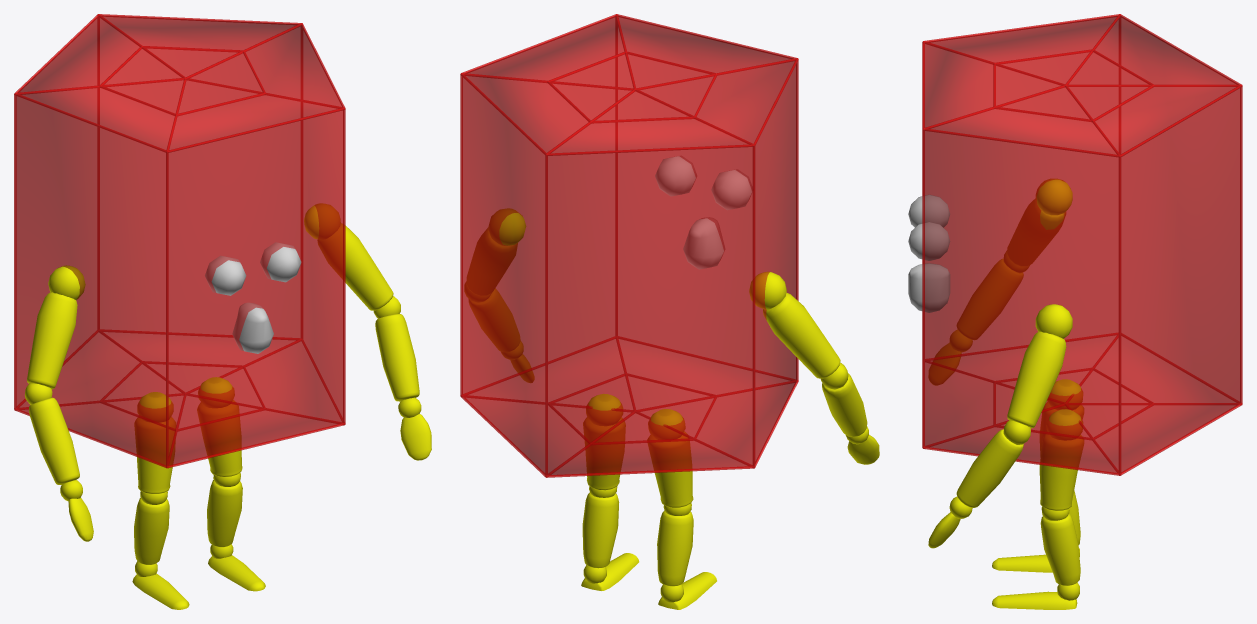
The model's file is Prismas - 05 - 11.fbx.
3 renders of one model, left to right at view 1: azimuth 30°, elevation 25°; view 2: azimuth 150°, elevation 25°; view 3: azimuth 270°, elevation 25°, orthographic. The views are drawn at different scales.
Visible parts, largest first — view 1: Prisma 5 - Extremidadres1; view 2: Prisma 5 - Extremidadres1; view 3: Prisma 5 - Extremidadres1.
Part boxes in pixels (x1,y1,x2,y2): Prisma 5 - Extremidadres1: (14,14,431,609); Prisma 5 - Extremidadres1: (460,14,879,609); Prisma 5 - Extremidadres1: (908,14,1242,609).
Bounding box in the file's own units: 161 × 204 × 124.
